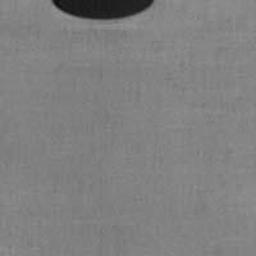Punching: (50, 0, 155, 20)
